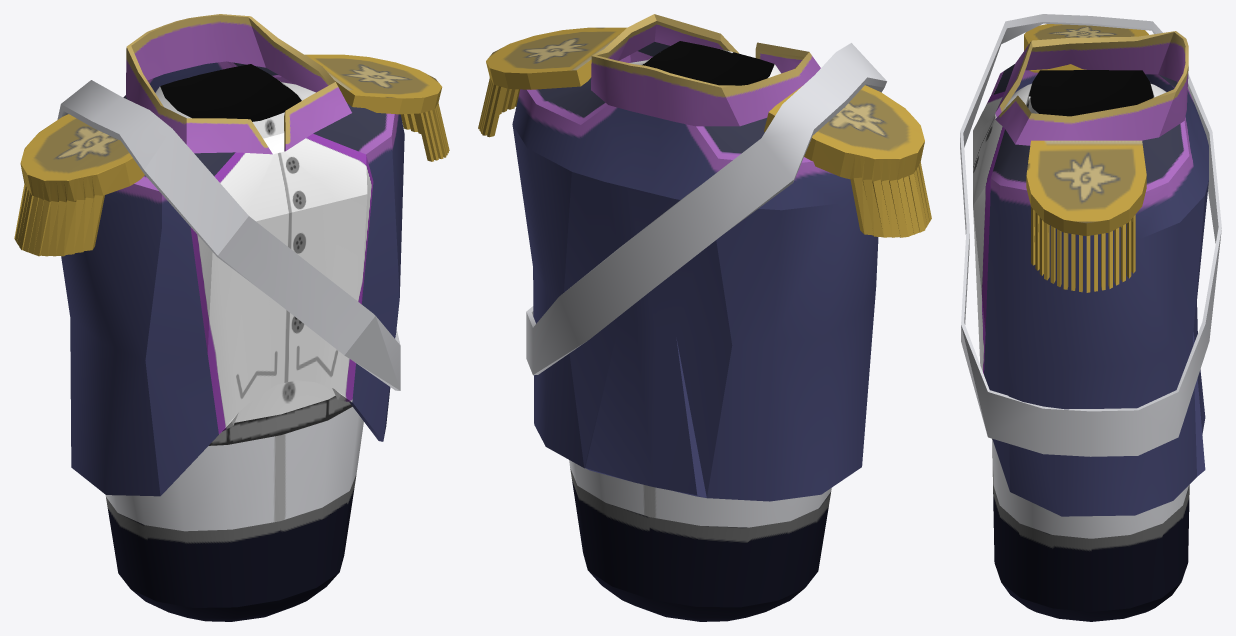
The model's file is officerBody.obj.
3 views of the same model, side by side, from view 1: azimuth 30°, elevation 25°; view 2: azimuth 150°, elevation 25°; view 3: azimuth 270°, elevation 25° (orthographic). The views are drawn at different scales.
Parts seen in each view (by area): view 1: officerTorso; view 2: officerTorso; view 3: officerTorso.
Boxes of the visible parts, left/top/right/bottom form: officerTorso: left=14, top=14, right=449, bottom=621; officerTorso: left=478, top=14, right=931, bottom=621; officerTorso: left=960, top=14, right=1221, bottom=621.
Bounding box in the file's own units: 1.52 × 1.88 × 0.815.
